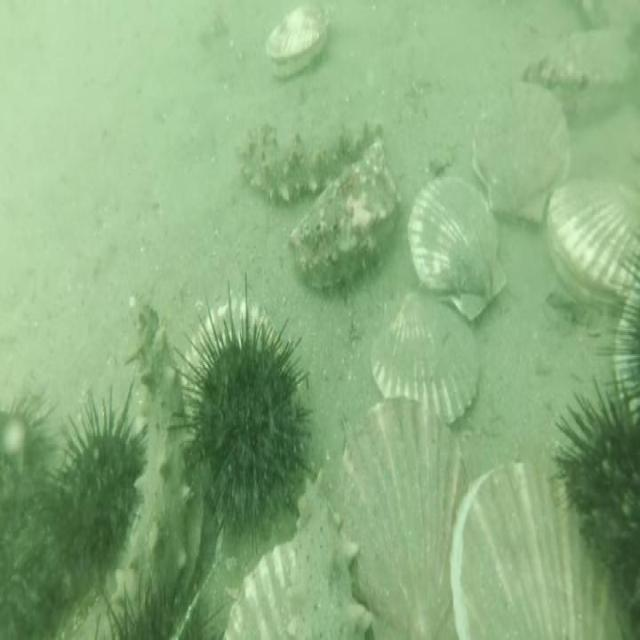echinus: (169, 272, 316, 558), (548, 366, 639, 640), (41, 382, 148, 586), (87, 567, 224, 640), (0, 385, 60, 539), (602, 253, 640, 433)
holothurian: (109, 295, 199, 599), (285, 472, 375, 640), (235, 114, 386, 207)
scallop: (314, 390, 476, 640), (449, 453, 640, 640), (369, 280, 482, 430), (407, 170, 510, 326), (470, 74, 575, 226), (543, 172, 640, 313), (182, 294, 278, 422), (222, 534, 300, 640), (265, 0, 332, 84), (613, 261, 640, 433), (184, 466, 211, 602)
